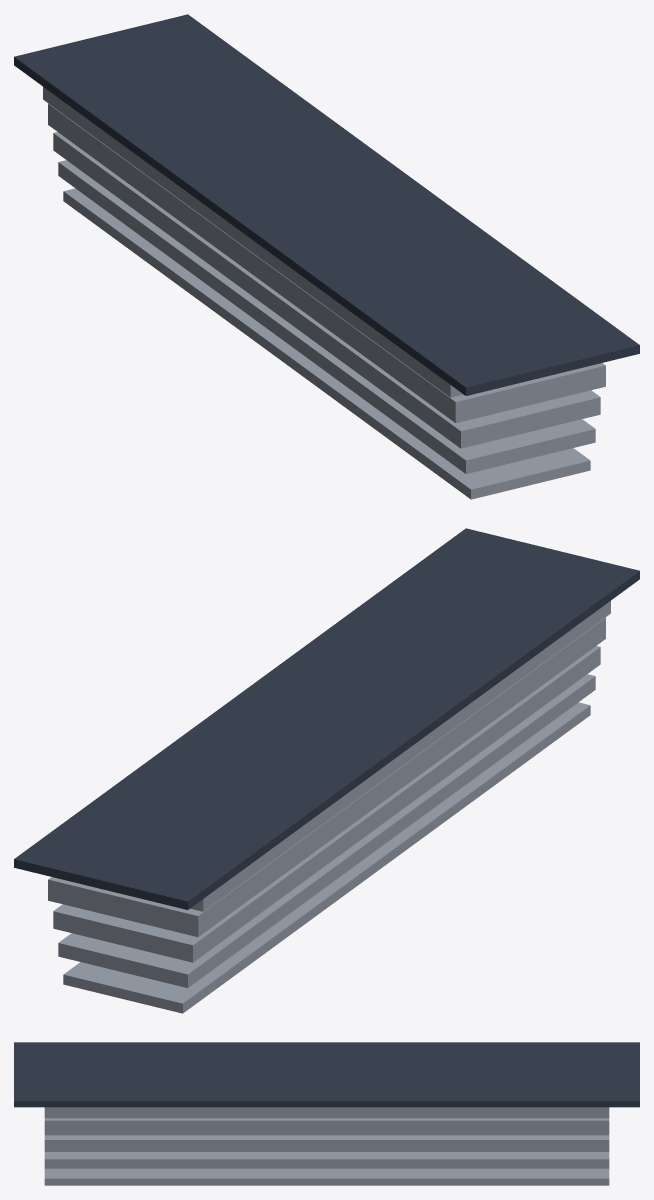
Rendered from mainGrandstandSouth.glb.
The picture shows the model from 3 angles, top to bottom: view 1: azimuth 30°, elevation 25°; view 2: azimuth 150°, elevation 25°; view 3: azimuth 270°, elevation 25°; orthographic projection. The views are drawn at different scales.
Visible parts, largest first — view 1: mainGrandstandSouth; view 2: mainGrandstandSouth; view 3: mainGrandstandSouth.
Boxes of the visible parts, x1,y1,x2,y2 form: mainGrandstandSouth: [14, 14, 639, 499]; mainGrandstandSouth: [14, 528, 639, 1013]; mainGrandstandSouth: [14, 1042, 639, 1185].
Bounding box in the file's own units: 5.1 × 3.78 × 22.95.
